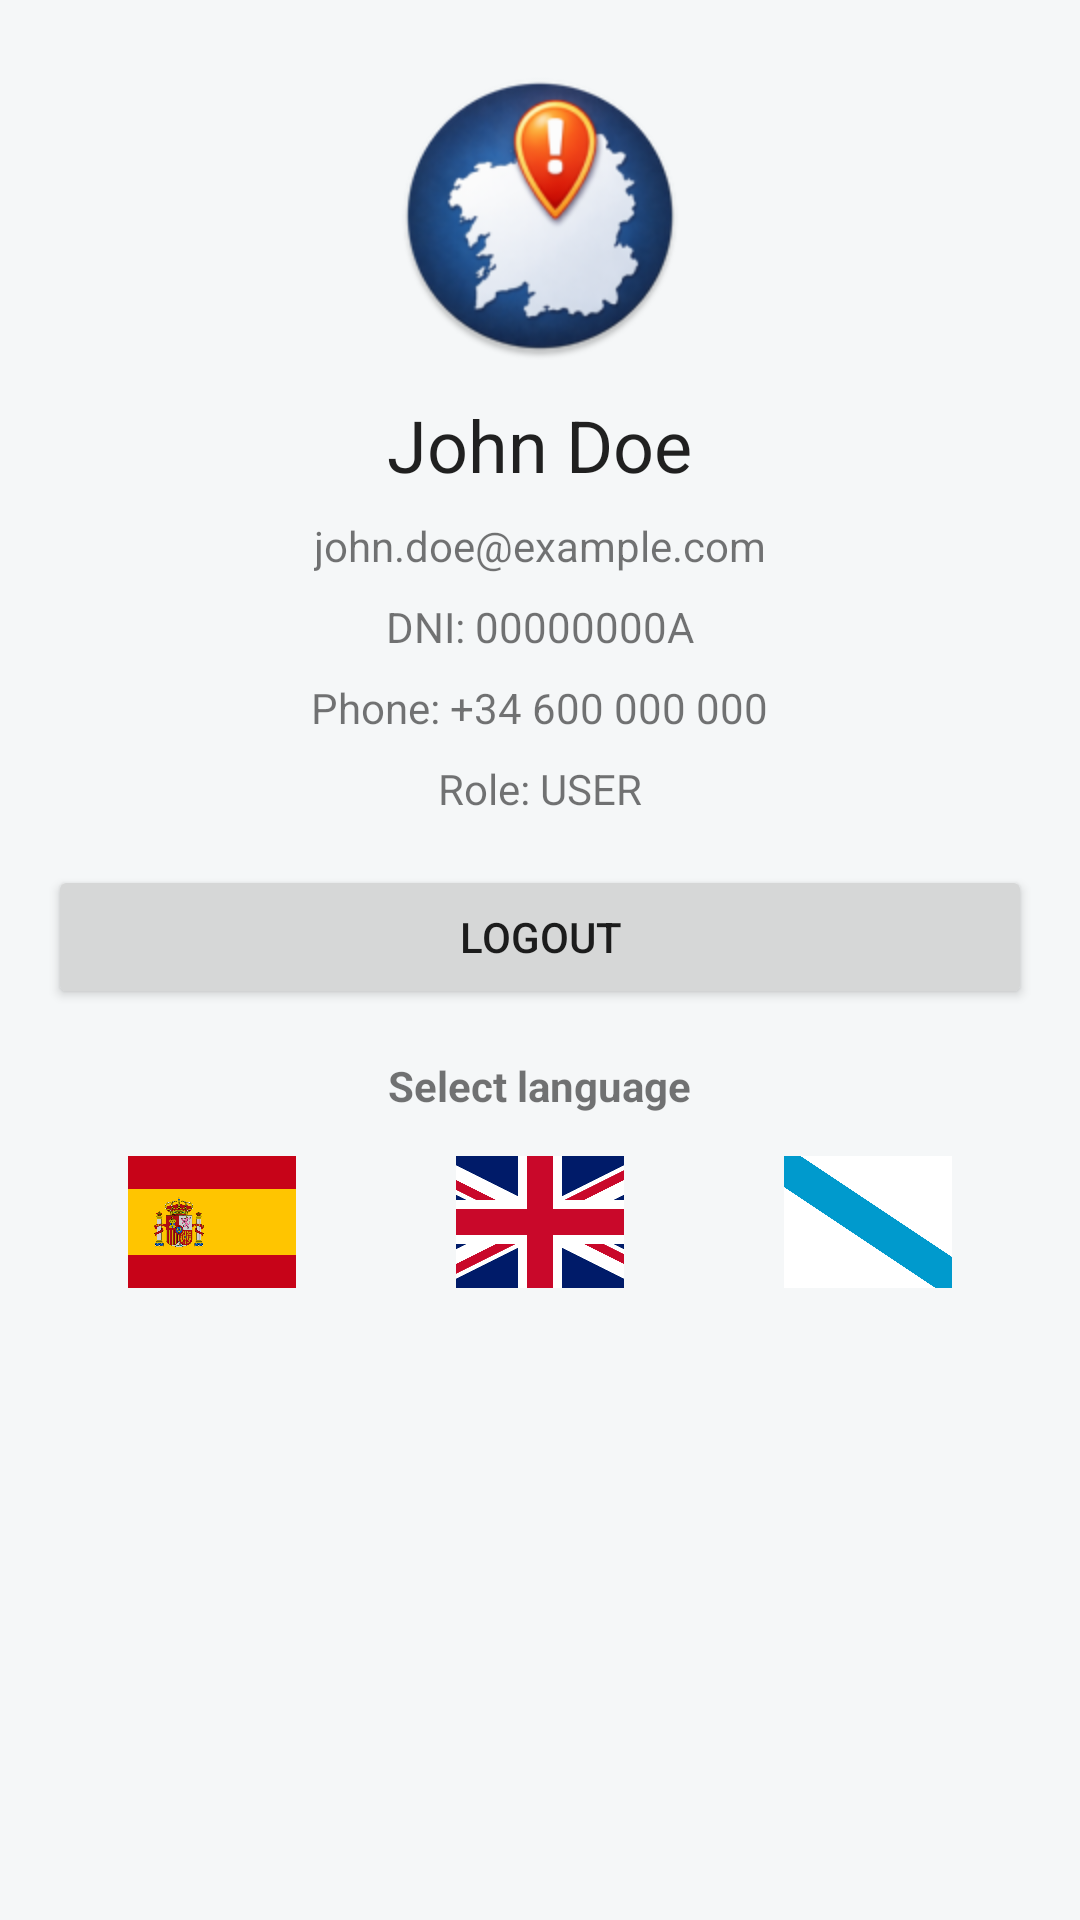

Icon bounding boxes for this 1080px x 1920px phone screenshot, format [left=x1, top=y1, right=x2, bottom=y2]:
EN flag: [left=456, top=1156, right=624, bottom=1288]
ES flag: [left=128, top=1156, right=296, bottom=1288]
GL flag: [left=784, top=1156, right=952, bottom=1288]
